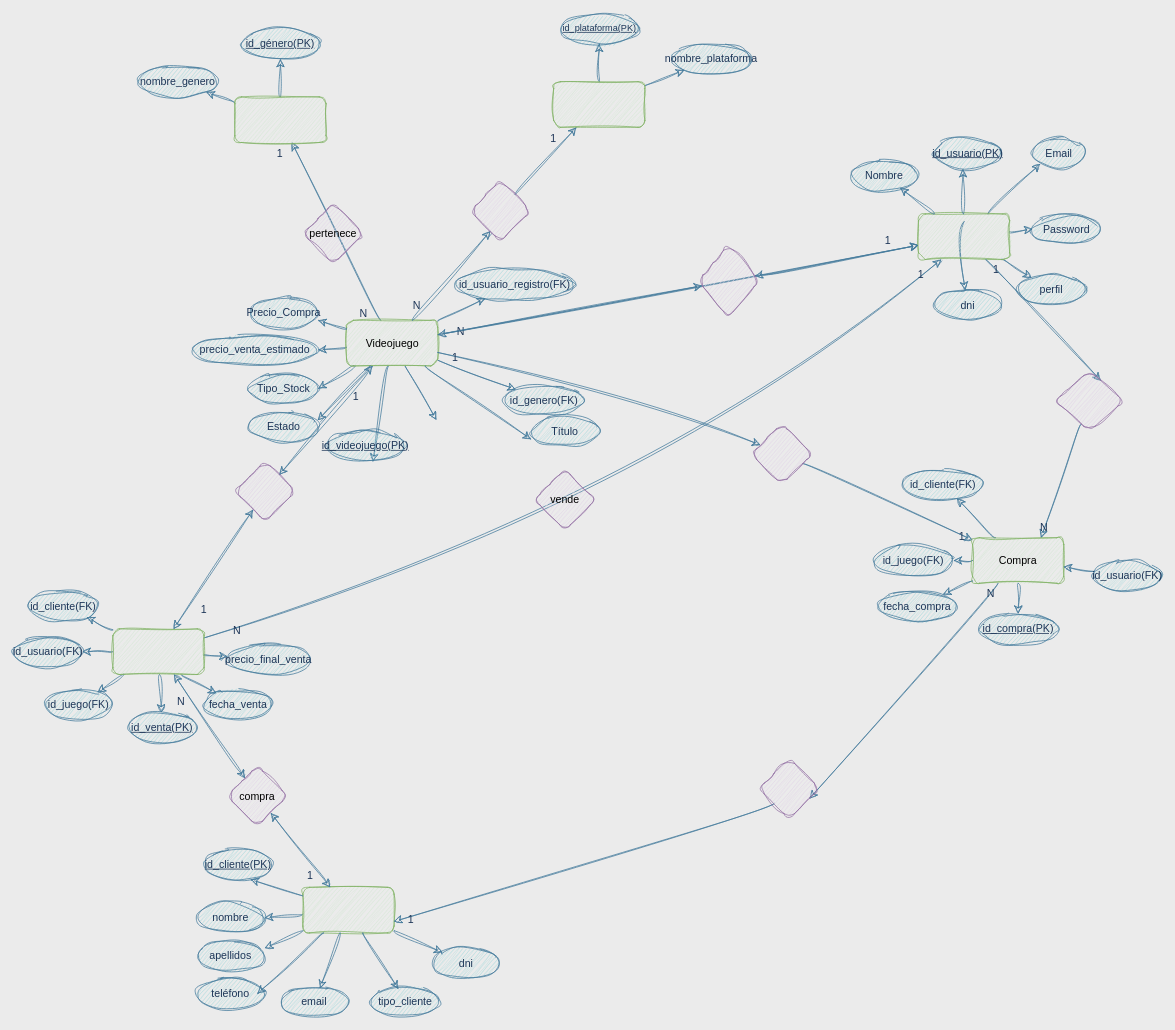
Some shapes in this 1175 by 1030 pixel diagram are drawn without their labels. The centre of each missing label's shape, as x and y in pixels:
Clientes: the point at 348,910
genera: the point at 265,491
gestiona: the point at 1089,400
Género: the point at 280,119
Plataforma: the point at 599,104
registra: the point at 728,280
se adquiere: the point at 781,453
suministra: the point at 789,788
tiene: the point at 500,210
Usuarios: the point at 964,236
Venta: the point at 158,651
